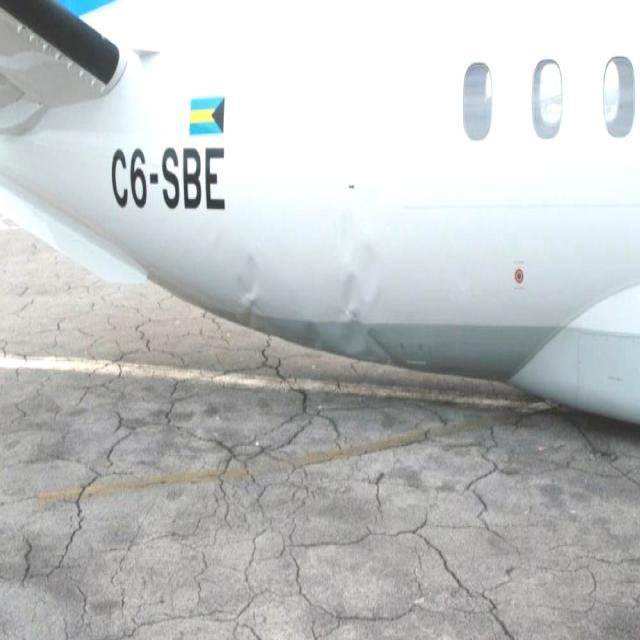dent: (323, 207, 385, 361), (236, 251, 276, 341)
